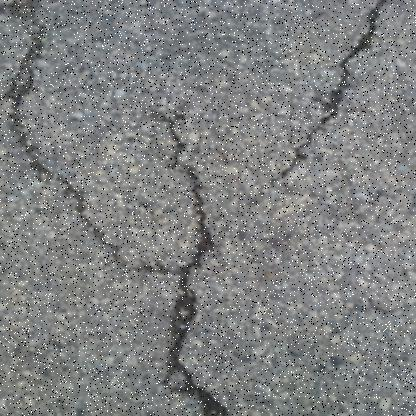Cracks: (0, 0, 176, 280), (147, 110, 246, 416), (262, 0, 395, 185)
